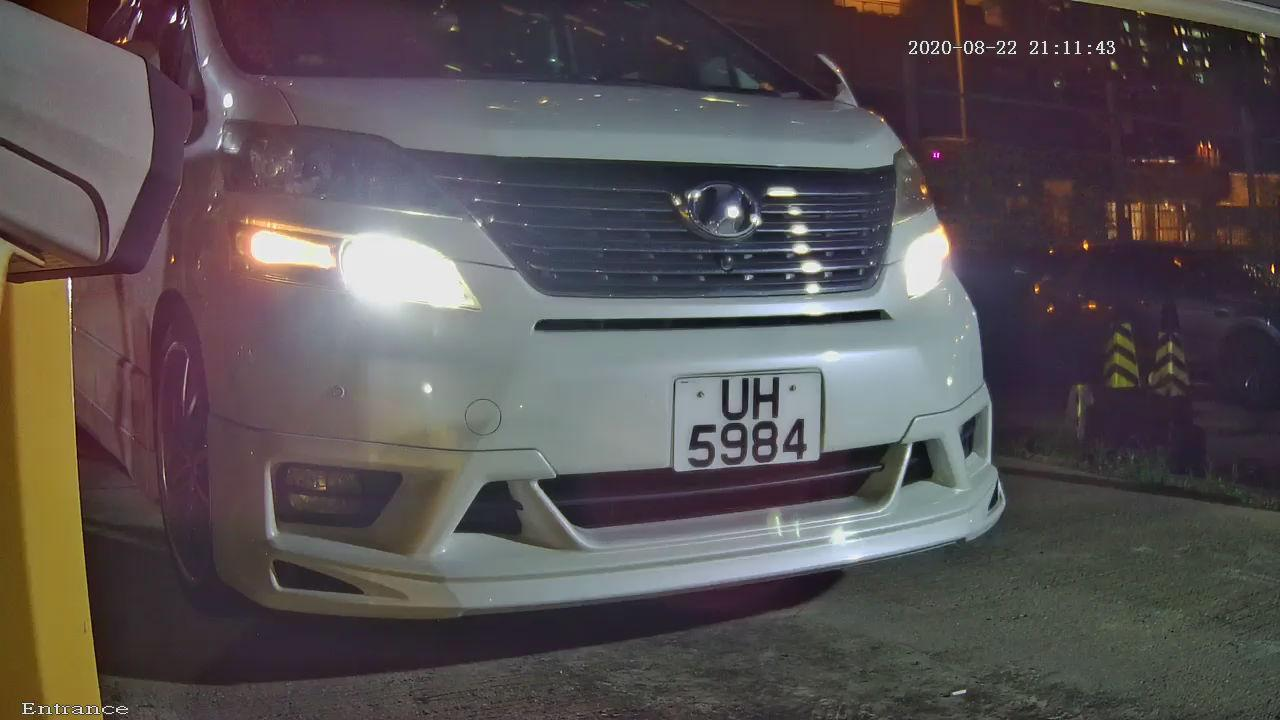Car: (58, 17, 1081, 653)
License Plate: (652, 354, 841, 489)
